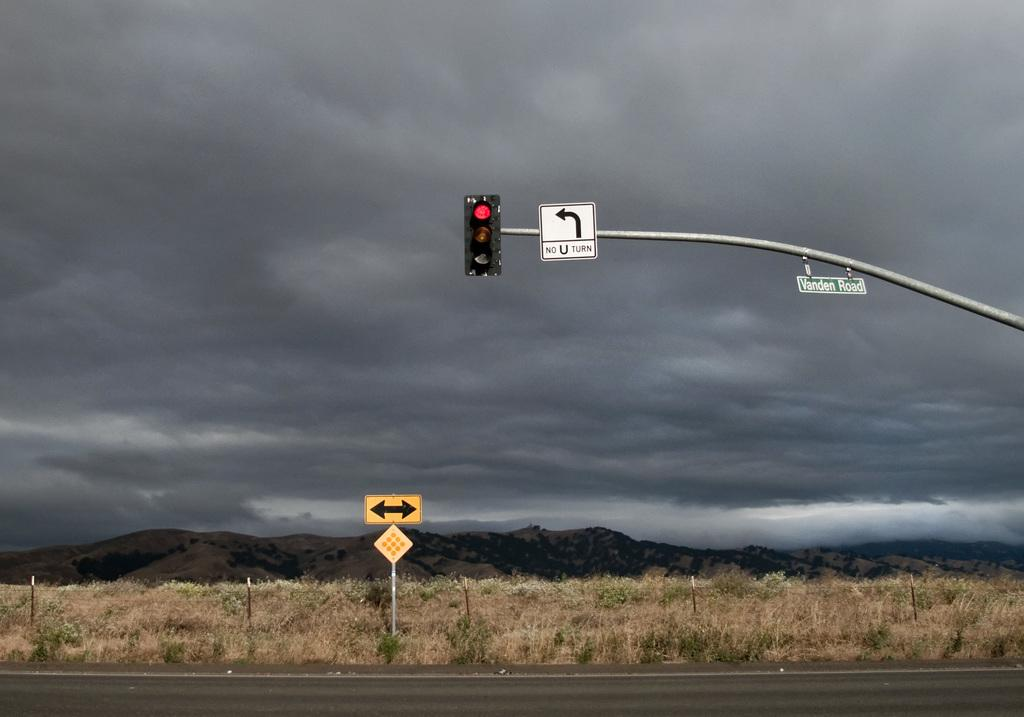red_light: (464, 195, 501, 277)
